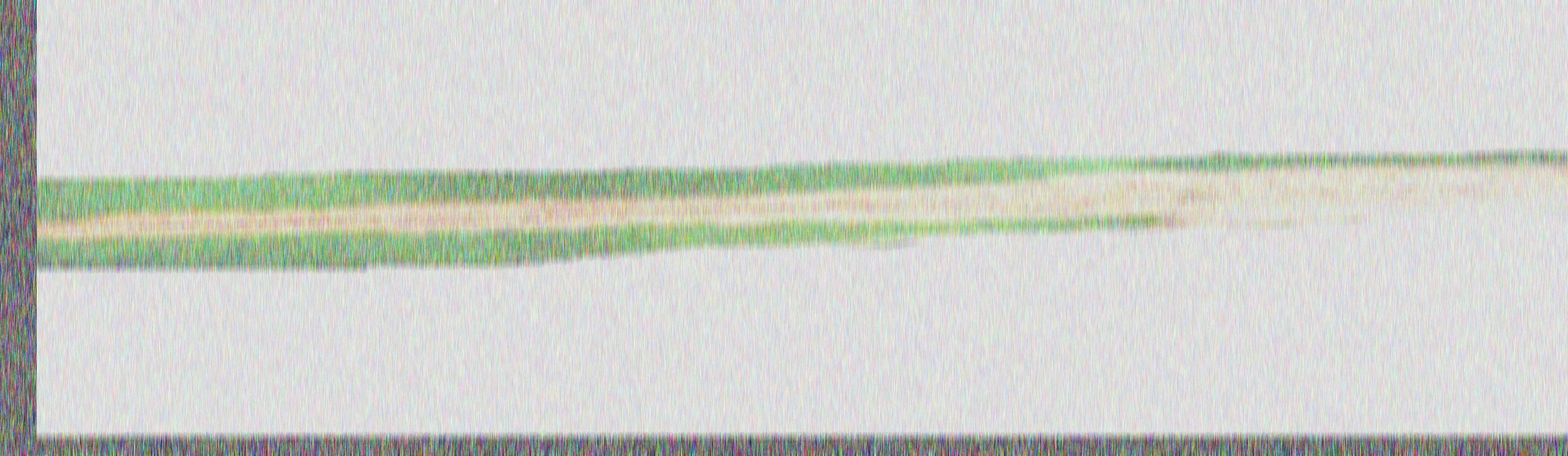Leaf_Blast: (39, 166, 1568, 248)
